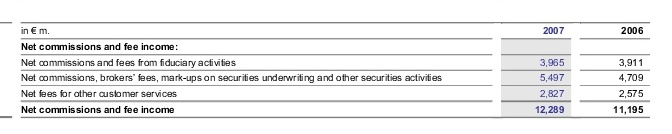table: (0, 0, 672, 134)
